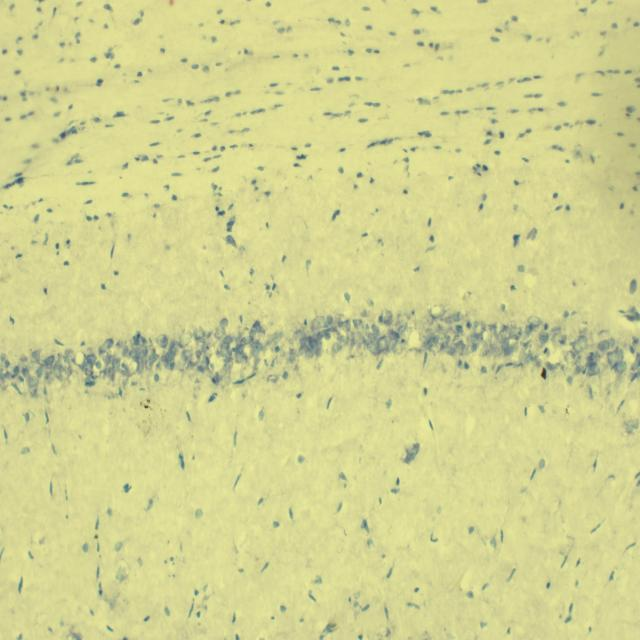neuron: (551, 332, 566, 350), (98, 338, 114, 354), (501, 337, 518, 352), (180, 329, 192, 349), (174, 350, 186, 370), (148, 348, 160, 367), (367, 338, 379, 357), (430, 304, 446, 318), (572, 338, 588, 352), (249, 320, 260, 340), (607, 350, 618, 370), (477, 340, 489, 358), (473, 322, 486, 338), (204, 339, 216, 356), (338, 328, 350, 345), (311, 315, 325, 329), (58, 355, 70, 371), (127, 360, 139, 376), (377, 334, 386, 355), (193, 326, 206, 340), (307, 336, 320, 350), (509, 326, 522, 340), (74, 351, 86, 366), (104, 362, 114, 380), (188, 352, 200, 367), (196, 338, 206, 356), (444, 316, 454, 334), (214, 366, 225, 382), (224, 364, 232, 386), (631, 353, 640, 372), (135, 346, 148, 359), (101, 347, 115, 359), (156, 334, 168, 348), (352, 319, 364, 333), (446, 342, 458, 356), (496, 330, 510, 342), (564, 350, 576, 364), (588, 362, 600, 376), (401, 327, 412, 342), (527, 316, 542, 327), (53, 363, 62, 381), (220, 342, 230, 358), (383, 310, 393, 326), (493, 322, 503, 338), (387, 328, 399, 341), (572, 364, 584, 377), (273, 329, 284, 343), (293, 330, 307, 341), (616, 348, 624, 367), (388, 337, 398, 352), (428, 342, 443, 352), (492, 343, 502, 358), (43, 367, 52, 383), (198, 356, 210, 368), (452, 310, 464, 322), (456, 340, 465, 356), (538, 334, 550, 346), (440, 334, 451, 347), (31, 349, 40, 364), (82, 362, 93, 374), (215, 327, 226, 339), (252, 341, 263, 353), (395, 340, 403, 356), (59, 366, 68, 380), (249, 342, 256, 360), (64, 349, 75, 360), (616, 362, 627, 373), (137, 358, 145, 373), (182, 348, 192, 360), (288, 348, 296, 363), (367, 330, 379, 340), (582, 356, 594, 366), (598, 340, 610, 350), (0, 366, 9, 379), (112, 358, 120, 372), (240, 336, 254, 344), (352, 331, 360, 345), (44, 355, 54, 366), (86, 354, 97, 364), (267, 374, 279, 383), (297, 348, 306, 360), (37, 363, 44, 378), (234, 350, 242, 363), (268, 333, 276, 346), (218, 318, 228, 328), (223, 334, 233, 344), (84, 376, 96, 384), (132, 335, 140, 347), (240, 356, 248, 368), (315, 348, 324, 358), (28, 377, 36, 388), (129, 349, 138, 358), (196, 365, 205, 374), (398, 324, 407, 333), (306, 349, 314, 359), (333, 343, 341, 353), (0, 378, 6, 391), (122, 345, 129, 356), (254, 357, 261, 368), (12, 366, 20, 375), (98, 370, 106, 379), (345, 320, 351, 332), (22, 368, 29, 378), (32, 376, 39, 386), (140, 337, 148, 345), (326, 316, 334, 324), (508, 321, 516, 329), (525, 354, 533, 362), (115, 341, 124, 348), (4, 359, 10, 369), (0, 352, 6, 362), (322, 321, 330, 328), (324, 332, 330, 341), (85, 370, 93, 376), (361, 337, 367, 345)
